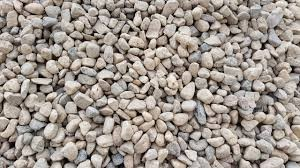rock: (1, 1, 299, 166)
